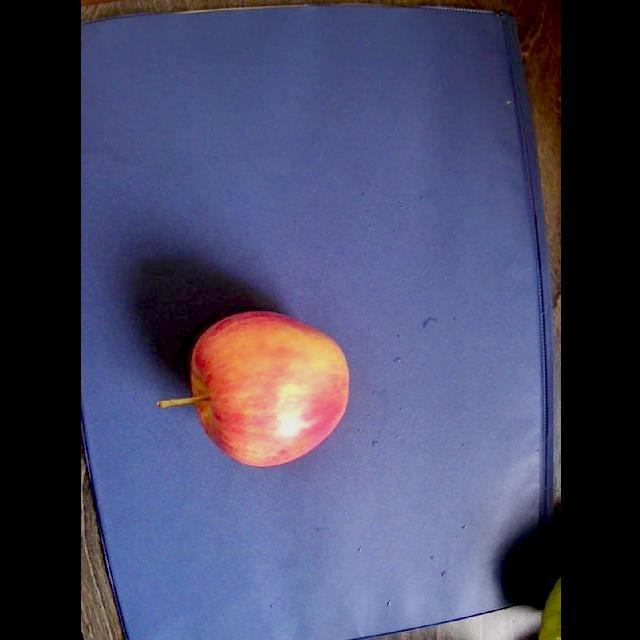manzana: (157, 312, 348, 466)
